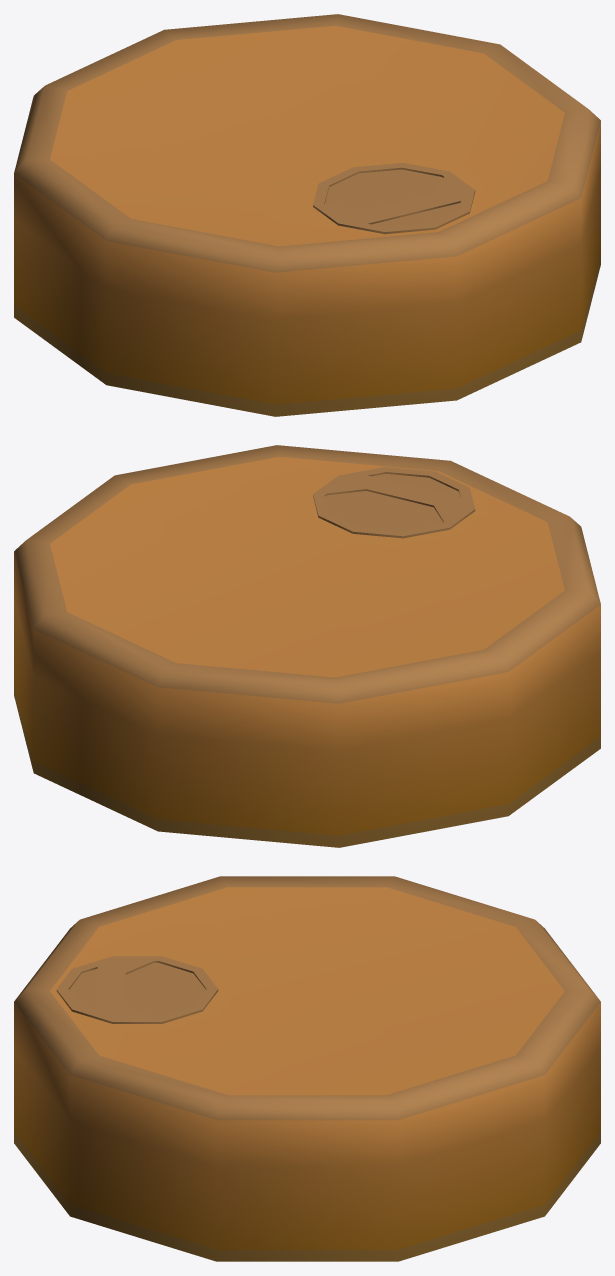
The model's file is can_food_small_orange.fbx.
The picture shows the model from 3 angles, top to bottom: view 1: azimuth 30°, elevation 25°; view 2: azimuth 150°, elevation 25°; view 3: azimuth 270°, elevation 25°; orthographic projection.
Visible parts, largest first — view 1: can_food_small_orange; view 2: can_food_small_orange; view 3: can_food_small_orange.
Part boxes in pixels (box(x1,y1,x2,y2)): can_food_small_orange: box(14, 14, 600, 416); can_food_small_orange: box(14, 445, 600, 847); can_food_small_orange: box(14, 876, 600, 1261).
Size of the model in its own units: 104 by 31.53 by 109.
